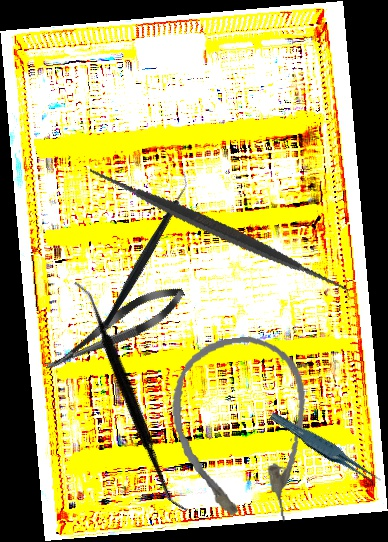Cannula: (164, 330, 320, 534)
Chopper: (59, 169, 231, 330)
Micro Scissor: (37, 277, 192, 382)
Spatula Surgical: (85, 98, 353, 363), (3, 279, 260, 513)
Tissue Forceps: (268, 404, 383, 494)
